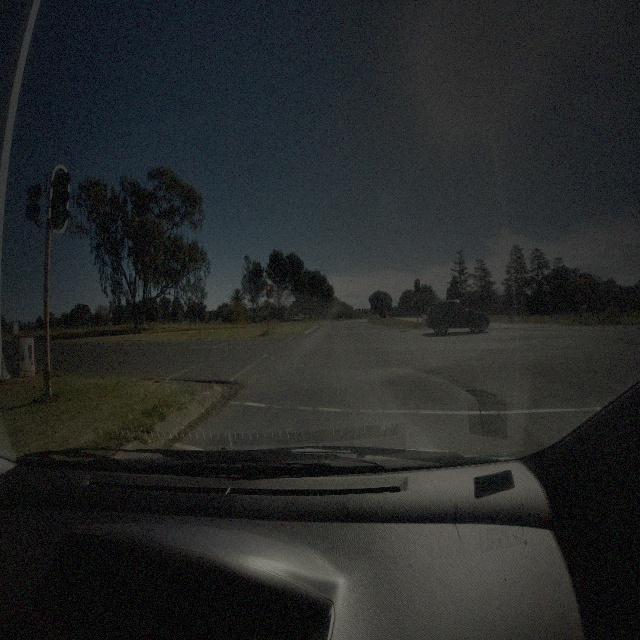pothole: (464, 385, 499, 403)
